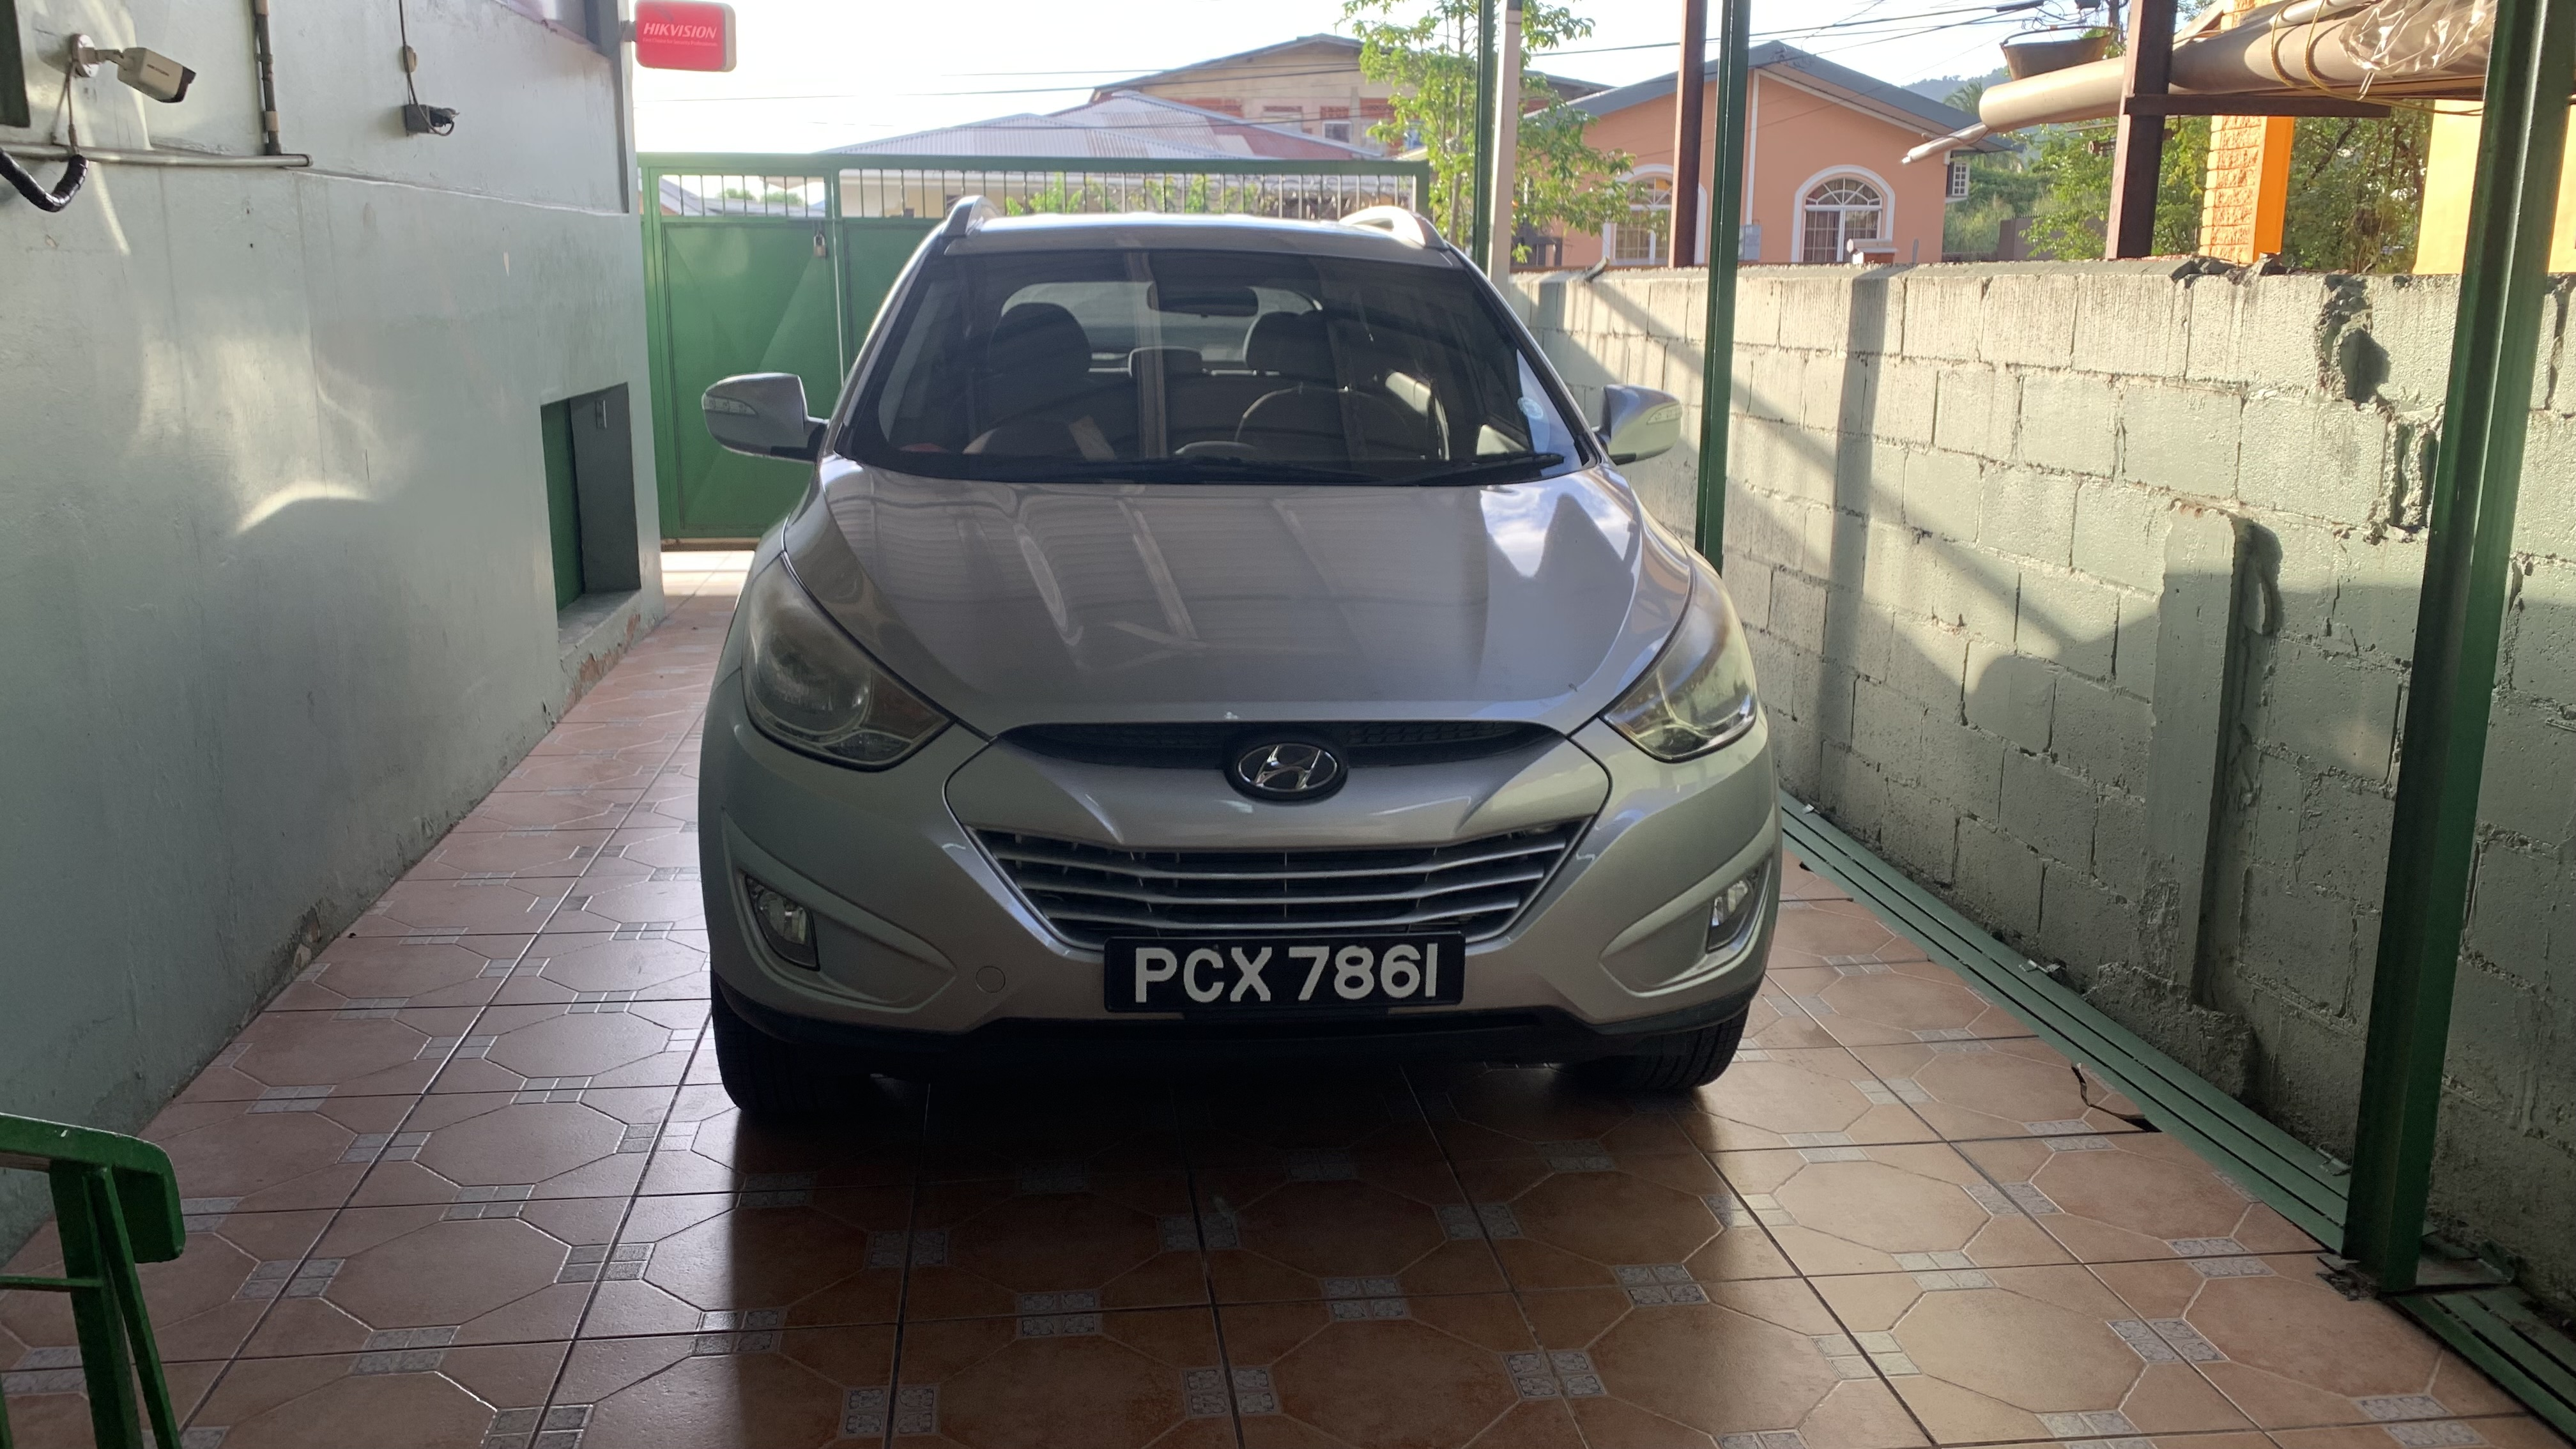License-Plate: (1101, 936, 1468, 1012)
